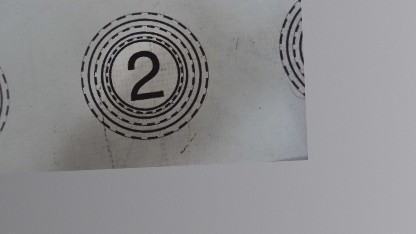2r: (74, 11, 210, 142)
